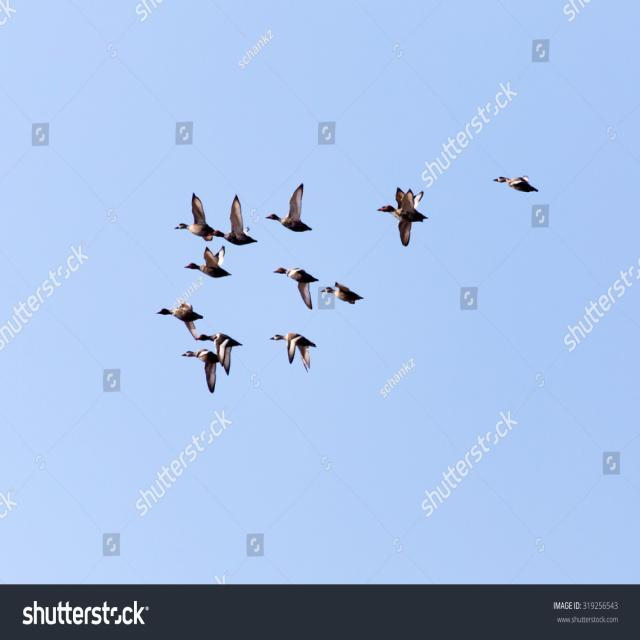bird: (355, 154, 445, 264), (487, 157, 596, 228), (265, 178, 319, 252), (217, 192, 266, 272), (318, 266, 375, 328), (166, 188, 222, 248), (146, 290, 208, 344), (263, 320, 323, 375), (168, 242, 238, 286), (173, 344, 231, 397), (262, 256, 327, 300), (213, 324, 247, 359)
